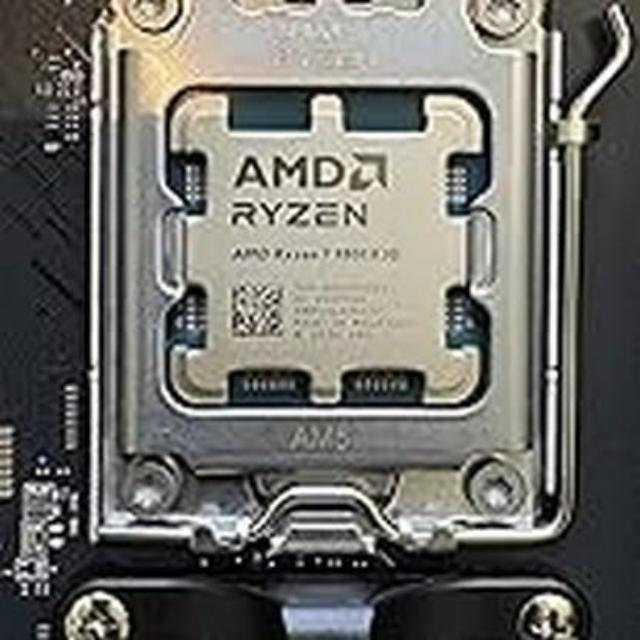CPU: (154, 87, 497, 430)
